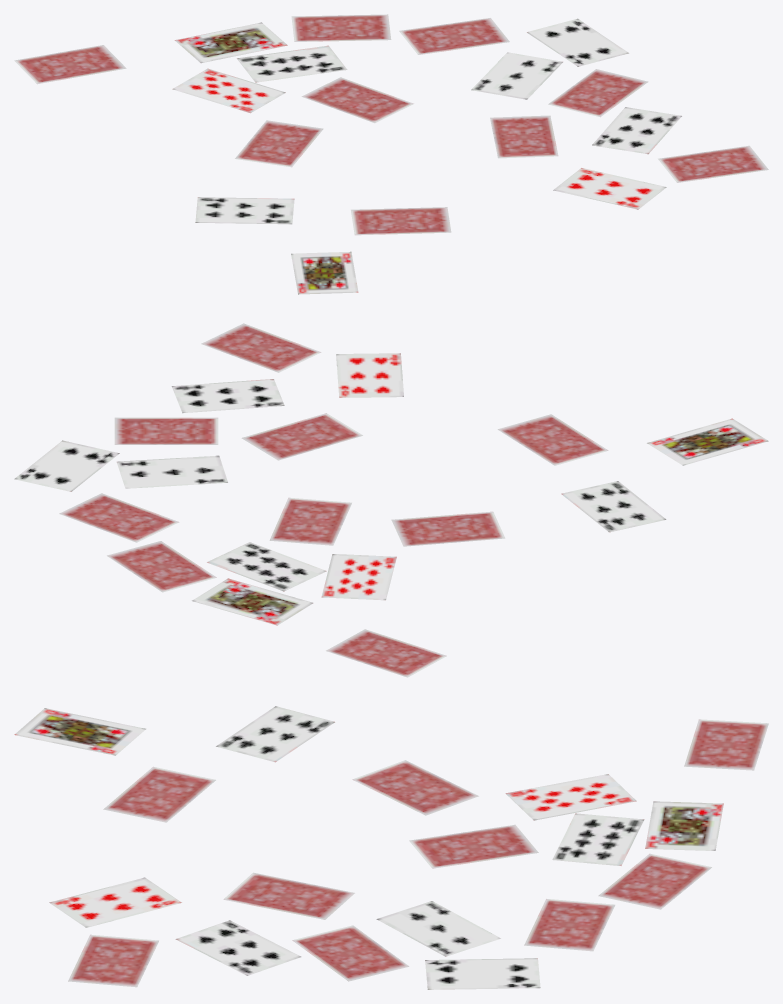
File: scatteredcards3.fbx
3 views of the same model, one above another, from view 1: azimuth 30°, elevation 25°; view 2: azimuth 150°, elevation 25°; view 3: azimuth 270°, elevation 25° (orthographic). The views are drawn at different scales.
Visible parts, largest first — view 1: mesh_0; view 2: mesh_0; view 3: mesh_0.
Part boxes in pixels (bbox=[...]): mesh_0: bbox=[14, 14, 768, 294]; mesh_0: bbox=[14, 323, 768, 677]; mesh_0: bbox=[14, 706, 768, 989].
Bounding box in the file's own units: 83.4 × 7.63e-06 × 93.75.
Materials: 1 (1 with a texture image).
